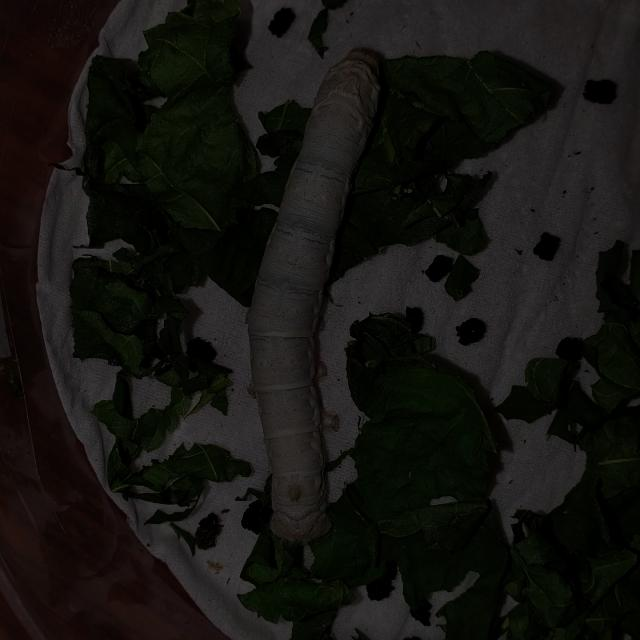Healthy: (224, 22, 403, 556)
